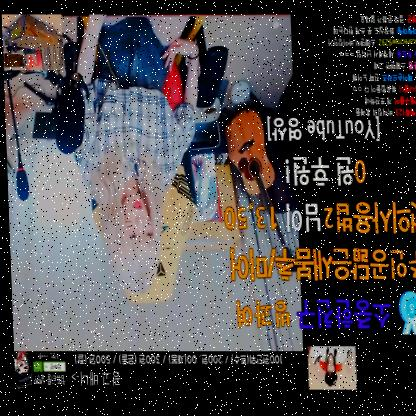donation: (216, 111, 416, 392)
streamer: (66, 15, 205, 296)
